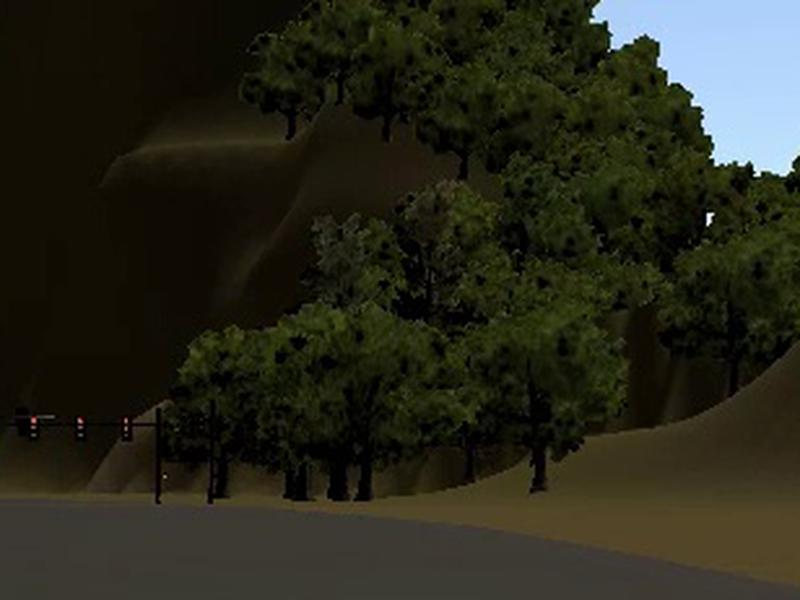Red: (120, 415, 133, 442), (75, 416, 86, 442), (29, 415, 40, 440)
